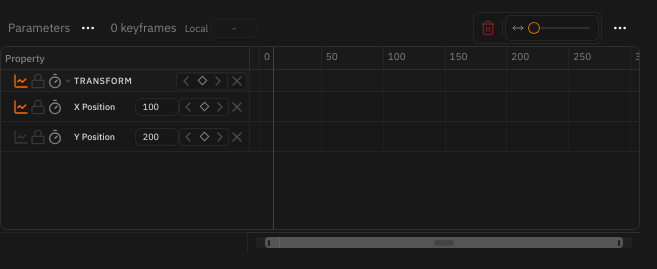
Test case: DopesheetEditor property groups › locks a row and disables its edit controls
Click the button named "lock x position row" at (38, 106), box [30,98,46,114]
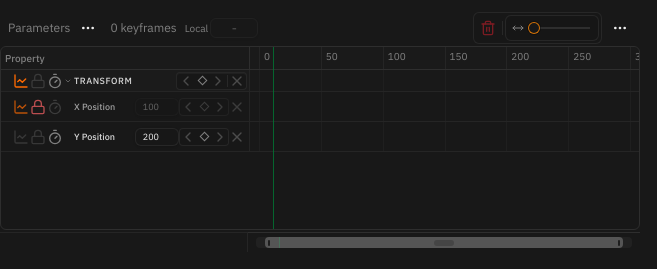
Expected: the number field named "y position value at playhead" is enabled, [135,128,179,146]
Expected: the number field named "x position value at playhead" is disabled, [135,98,179,116]
Expected: the button named "toggle x position keyframe at playhead" is disabled, [196,98,212,114]
